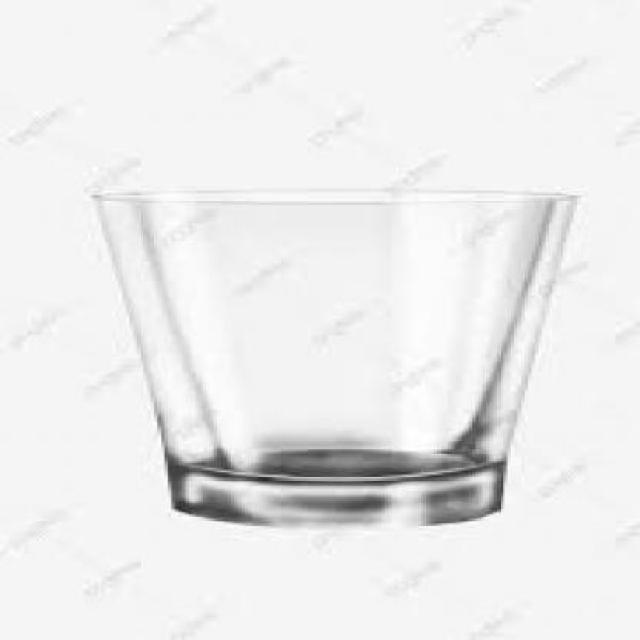kaca: (91, 189, 574, 525)
